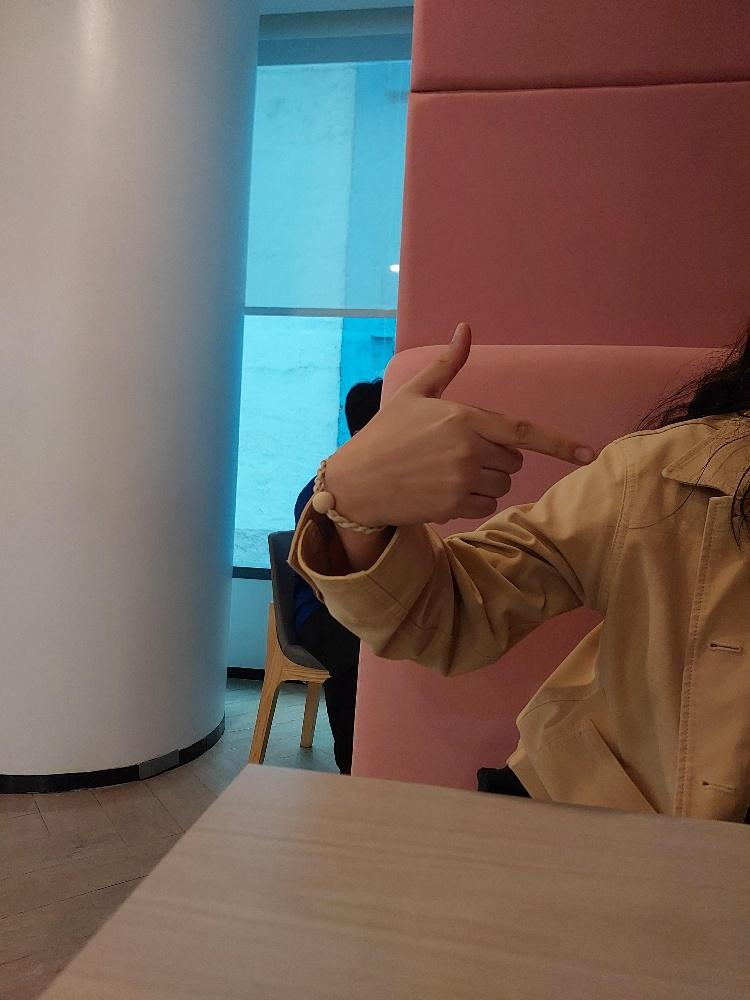g: (305, 312, 603, 535)
